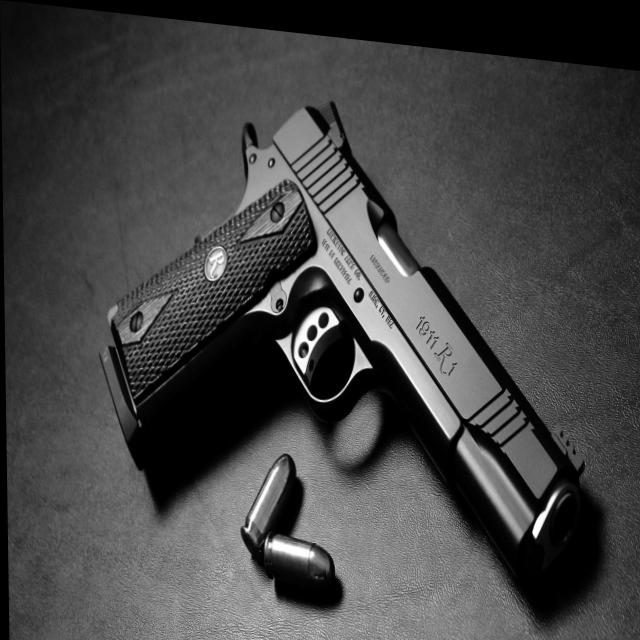handgun: (96, 72, 586, 557)
